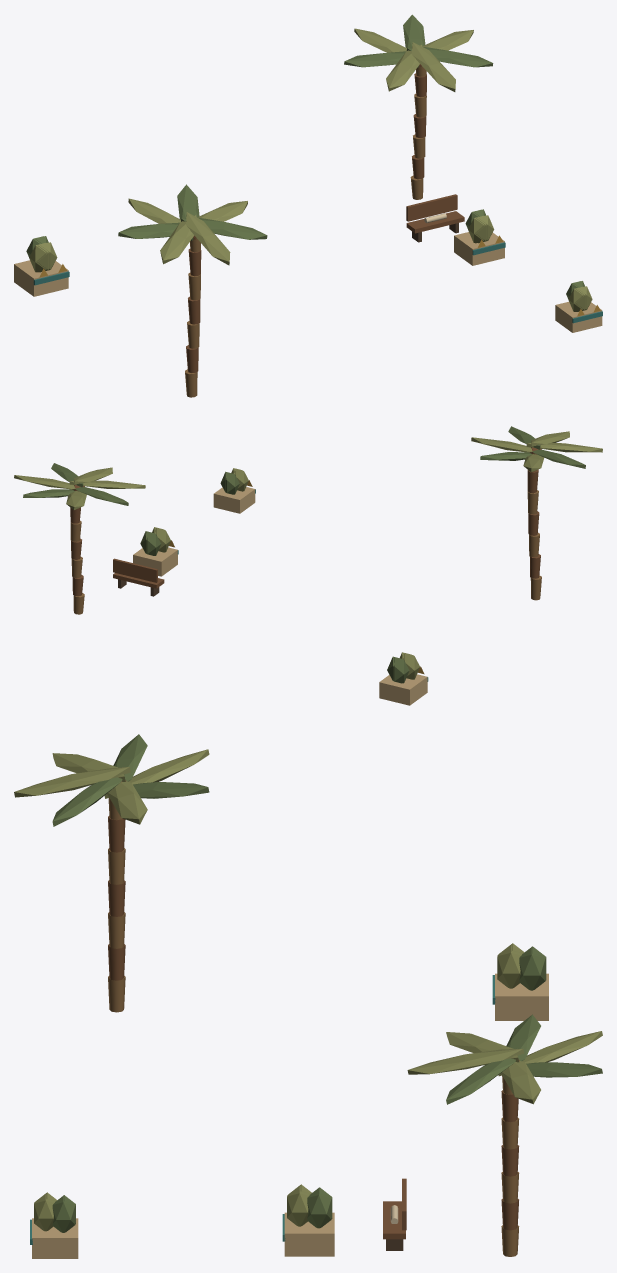
Rendered from courtyard-plants.glb.
3 renders of one model, top to bottom at view 1: azimuth 30°, elevation 25°; view 2: azimuth 150°, elevation 25°; view 3: azimuth 270°, elevation 25°, orthographic. The views are drawn at different scales.
Visible parts, largest first — view 1: courtyard-planter-surface (×3), courtyard-palm-surface (×2), wind-leaf-44-surface (×2), courtyard-plants-surface, wind-leaf-45-surface (×2), wind-leaf-50-surface (×2), wind-leaf-49-surface (×2), wind-leaf-48-surface (×2), wind-leaf-46-surface (×2), wind-leaf-47-surface (×2); view 2: courtyard-planter-surface (×3), courtyard-palm-surface (×2), courtyard-plants-surface, wind-leaf-50-surface (×2), wind-leaf-46-surface (×2), wind-leaf-49-surface (×2); view 3: courtyard-palm-surface (×2), courtyard-planter-surface (×3), wind-leaf-44-surface (×2), wind-leaf-45-surface (×2), wind-leaf-46-surface (×2), wind-leaf-48-surface (×2), wind-leaf-47-surface (×2), wind-leaf-50-surface (×2), wind-leaf-54-surface (×2), wind-leaf-49-surface (×2), wind-leaf-51-surface (×2), courtyard-plants-surface.
Part boxes in pixels (left/top/right/bottom): courtyard-planter-surface (×3): left=14, top=232, right=602, bottom=332; courtyard-palm-surface (×2): left=185, top=64, right=426, bottom=397; wind-leaf-44-surface (×2): left=186, top=42, right=455, bottom=265; courtyard-plants-surface: left=406, top=194, right=464, bottom=242; wind-leaf-45-surface (×2): left=181, top=47, right=493, bottom=239; wind-leaf-50-surface (×2): left=160, top=44, right=422, bottom=264; wind-leaf-49-surface (×2): left=118, top=51, right=405, bottom=238; wind-leaf-48-surface (×2): left=128, top=28, right=406, bottom=238; wind-leaf-46-surface (×2): left=197, top=30, right=473, bottom=221; wind-leaf-47-surface (×2): left=177, top=14, right=425, bottom=240; courtyard-planter-surface (×3): left=133, top=480, right=428, bottom=705; courtyard-palm-surface (×2): left=70, top=447, right=541, bottom=614; courtyard-plants-surface: left=113, top=558, right=164, bottom=596; wind-leaf-50-surface (×2): left=69, top=443, right=602, bottom=488; wind-leaf-46-surface (×2): left=14, top=437, right=532, bottom=489; wind-leaf-49-surface (×2): left=75, top=449, right=585, bottom=505; courtyard-palm-surface (×2): left=108, top=780, right=519, bottom=1256; courtyard-planter-surface (×3): left=30, top=973, right=548, bottom=1258; wind-leaf-44-surface (×2): left=14, top=767, right=524, bottom=1074; wind-leaf-45-surface (×2): left=52, top=767, right=518, bottom=1104; wind-leaf-46-surface (×2): left=107, top=781, right=540, bottom=1104; wind-leaf-48-surface (×2): left=104, top=749, right=602, bottom=1076; wind-leaf-47-surface (×2): left=133, top=782, right=602, bottom=1077; wind-leaf-50-surface (×2): left=52, top=753, right=518, bottom=1062; wind-leaf-54-surface (×2): left=307, top=947, right=545, bottom=1228; wind-leaf-49-surface (×2): left=113, top=734, right=540, bottom=1061; wind-leaf-51-surface (×2): left=287, top=946, right=521, bottom=1226; courtyard-plants-surface: left=383, top=1178, right=406, bottom=1250.
Size of the model in its own units: 20.23 by 6.95 by 15.27.
